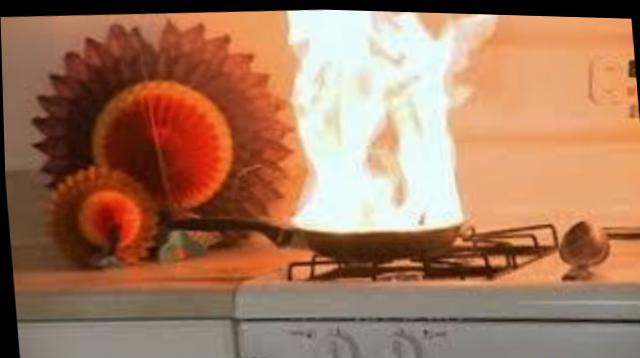fire: (261, 6, 512, 237)
